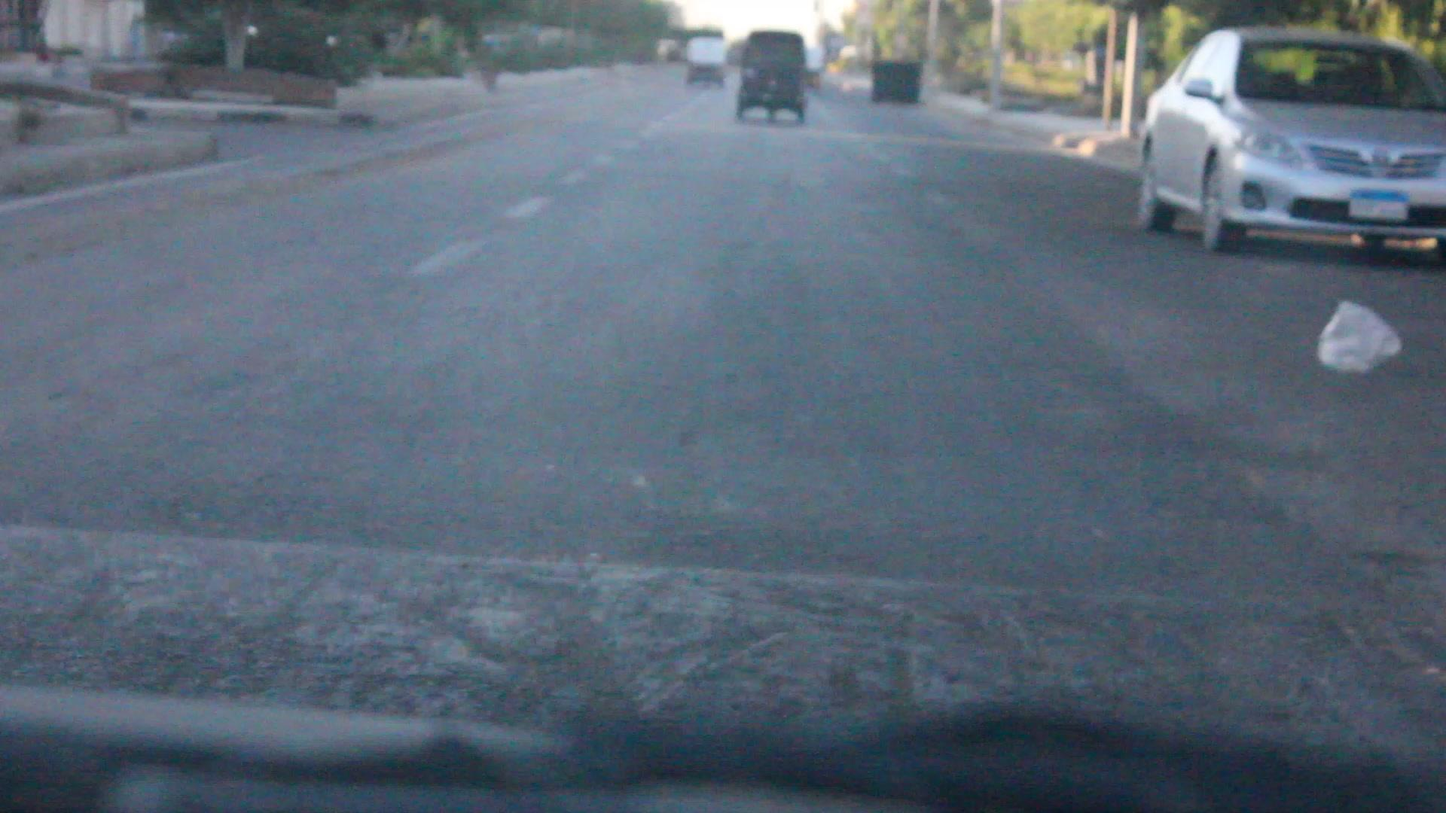Bump: (13, 501, 1446, 813)
